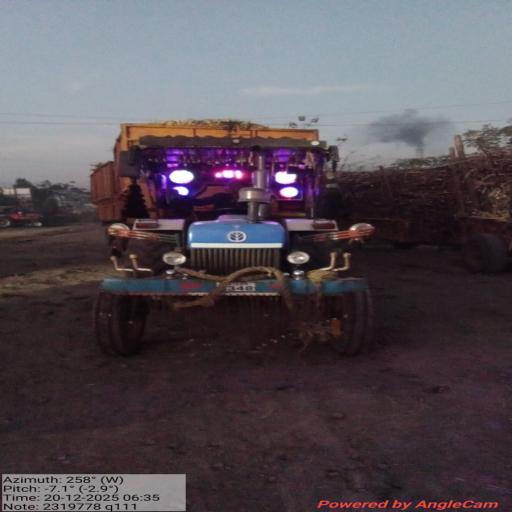number_plate: (209, 273, 275, 294)
